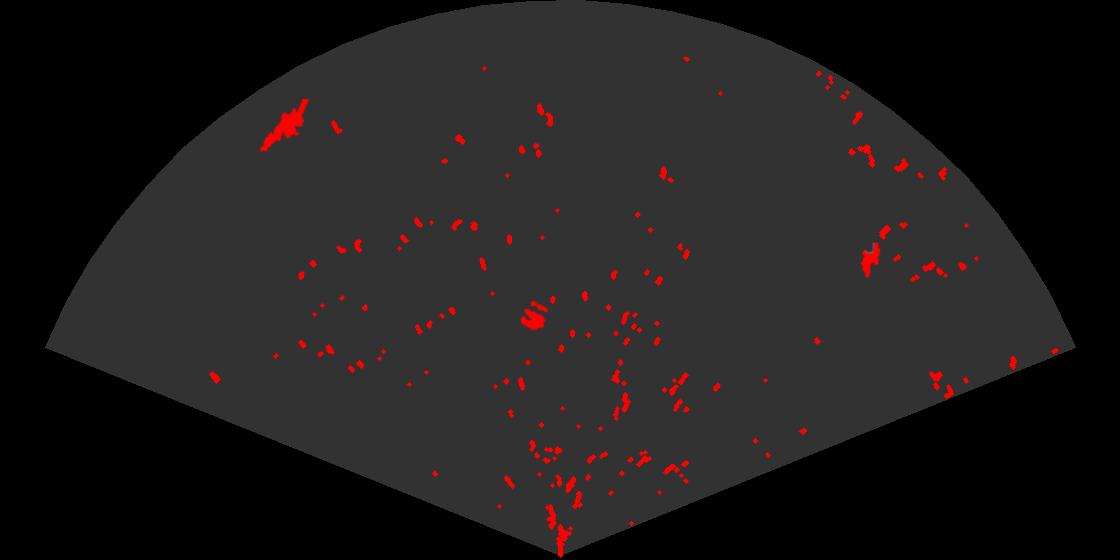AUV: (859, 240, 882, 280)
ball: (518, 299, 550, 332)
frogman: (258, 99, 311, 154)
